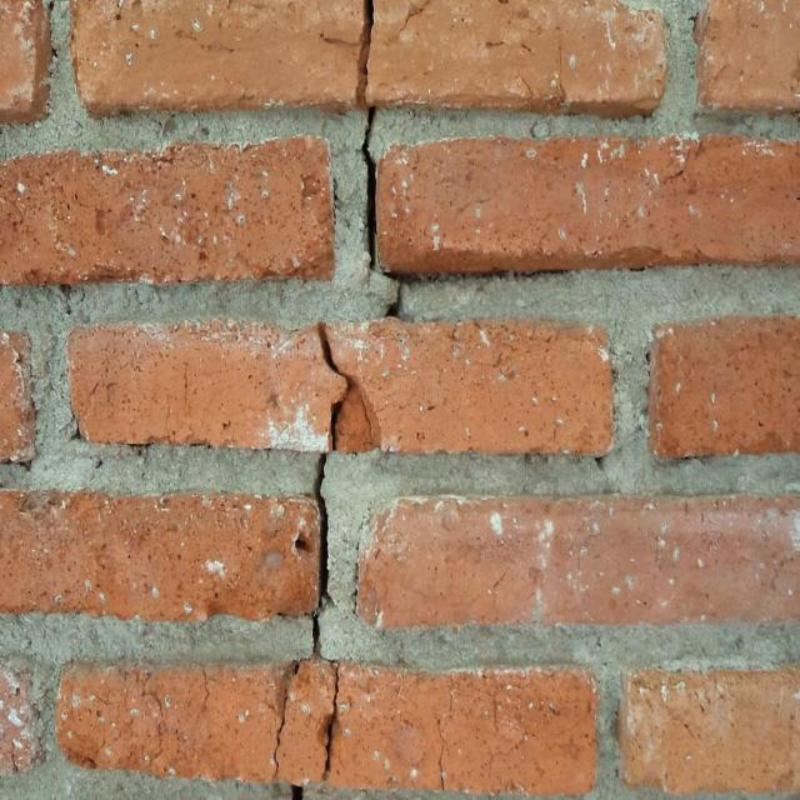pothole: (317, 323, 358, 450), (358, 107, 377, 270), (312, 455, 327, 657), (320, 656, 339, 779), (355, 1, 376, 108), (399, 269, 568, 282), (271, 681, 288, 780), (382, 273, 404, 319), (438, 719, 447, 791), (360, 399, 374, 436), (292, 658, 311, 675), (202, 669, 210, 709)
